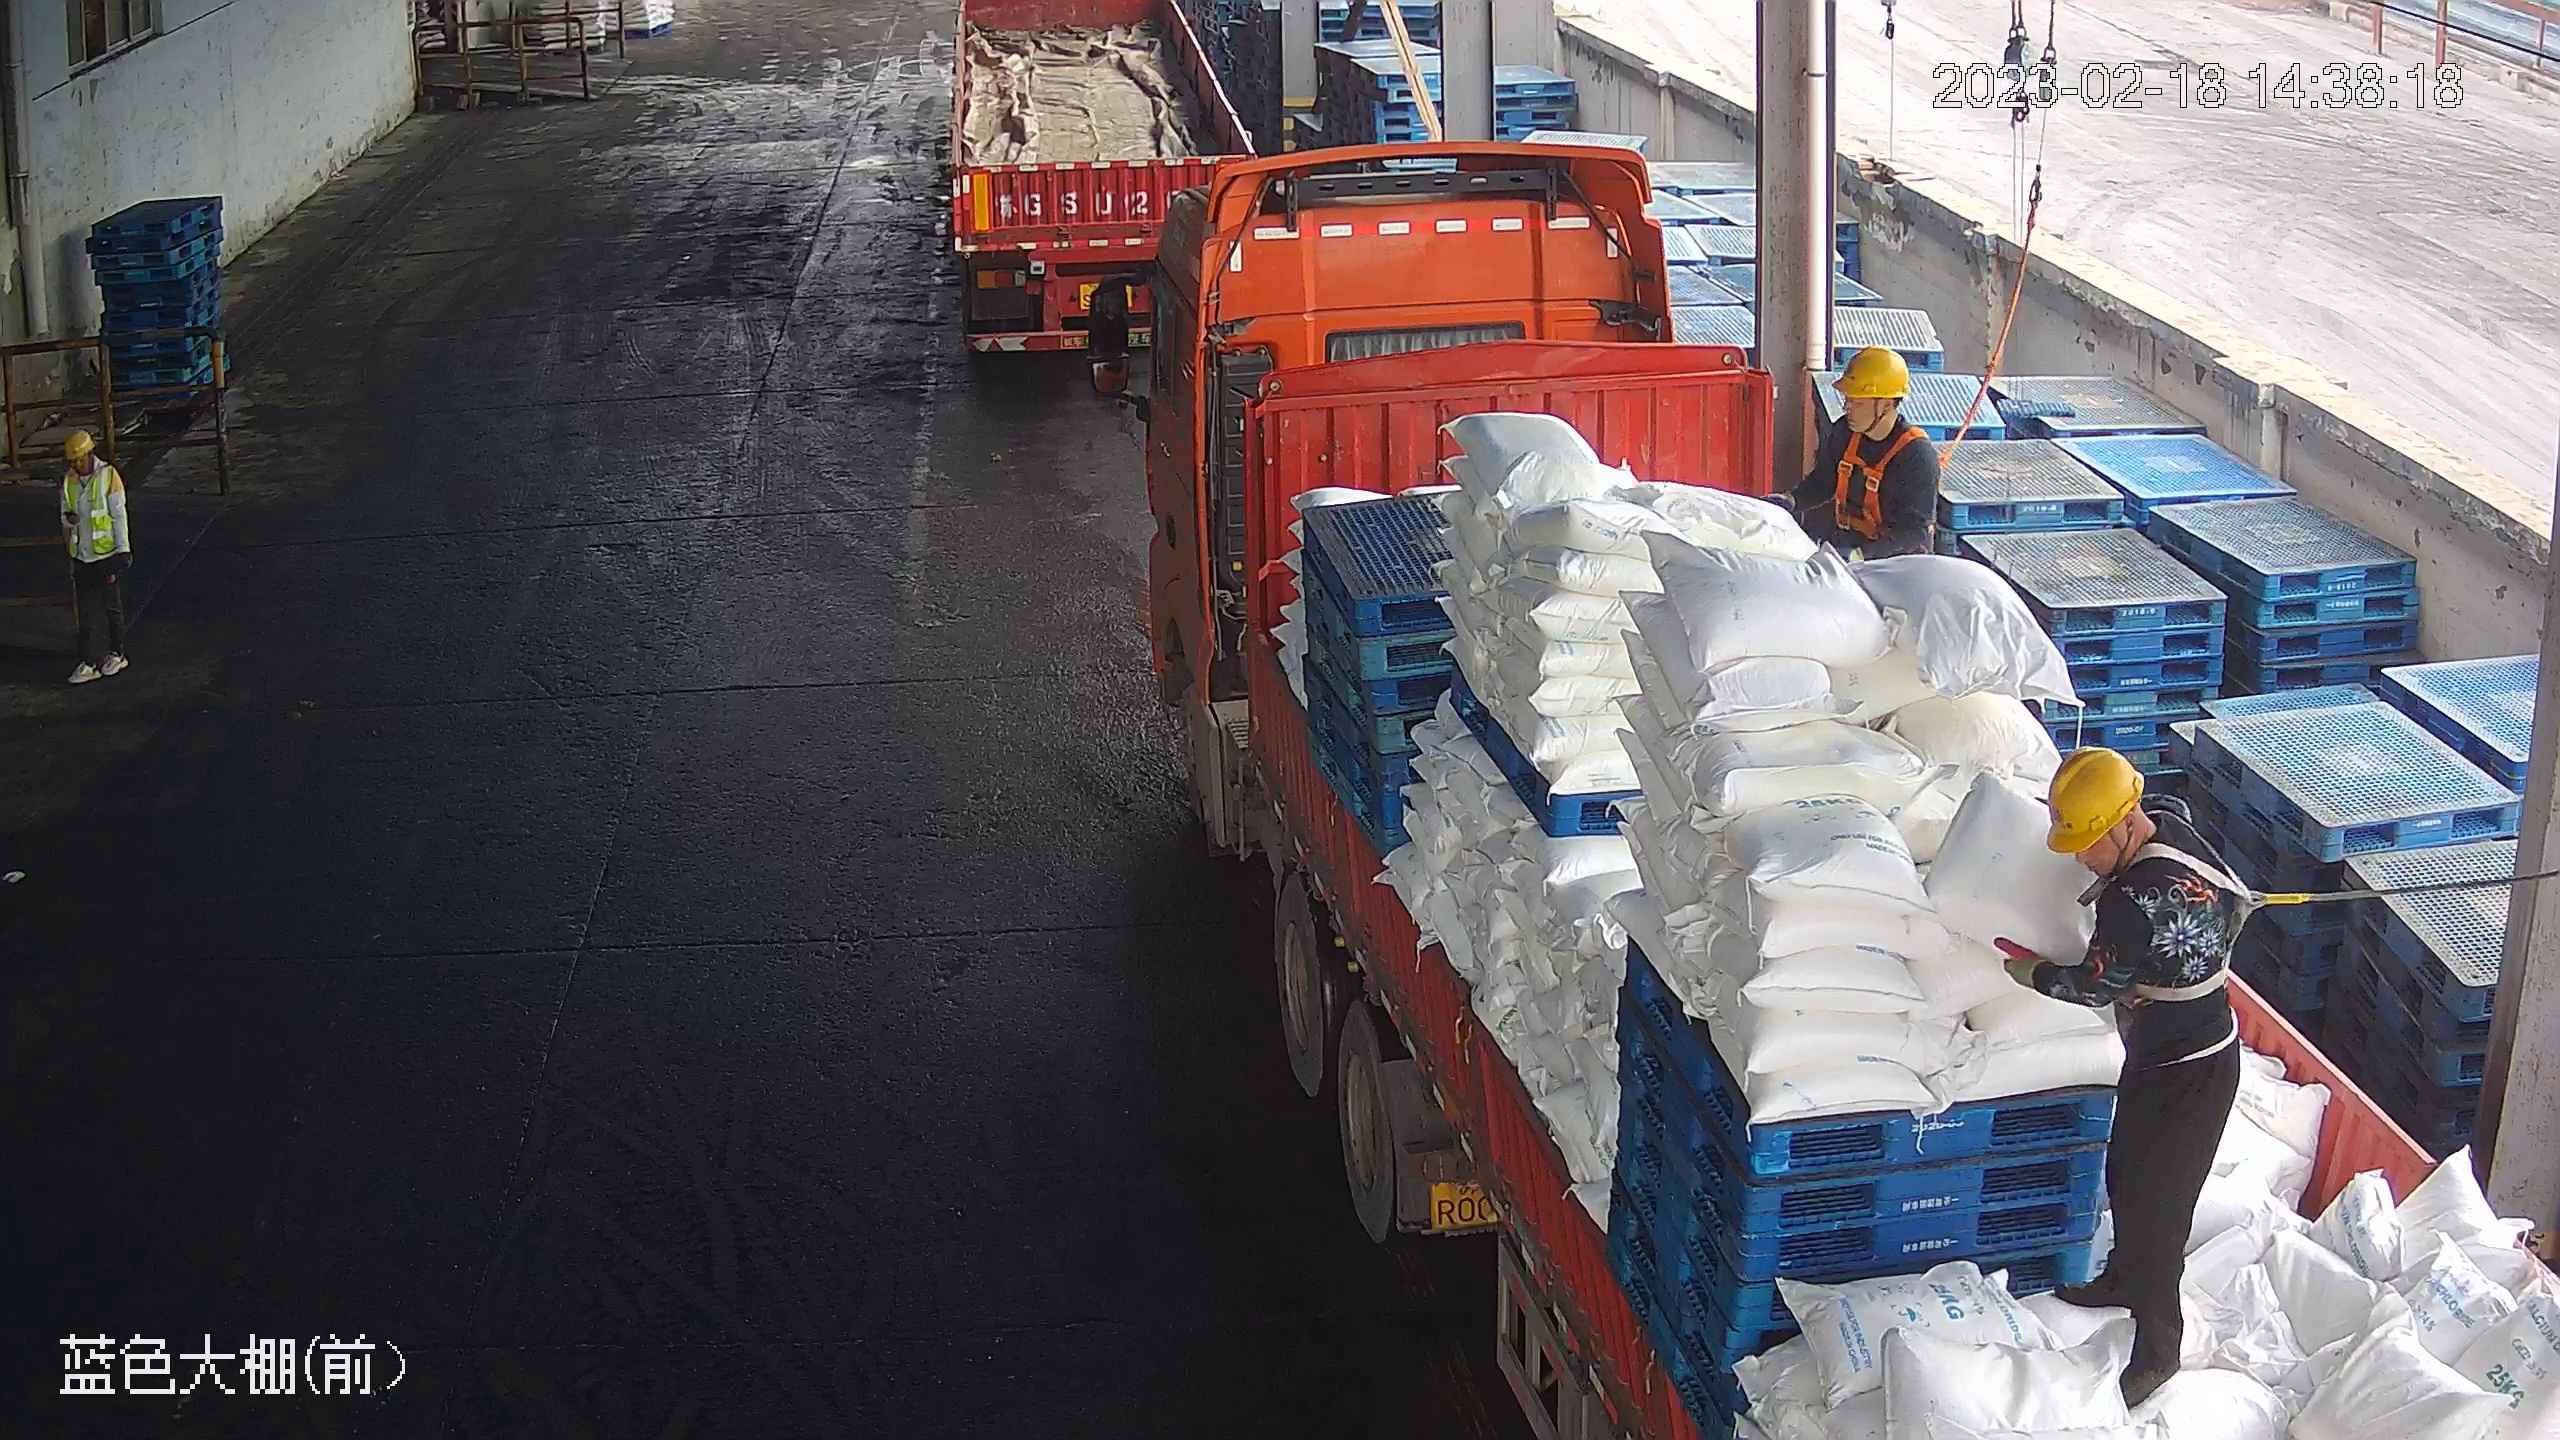belt: (2108, 844, 2271, 1000), (1827, 426, 1938, 543)
head: (2042, 745, 2231, 936), (1812, 341, 1942, 488), (58, 426, 124, 505)
helmet: (2045, 744, 2146, 856), (1832, 342, 1912, 398), (65, 426, 100, 459)
people: (1992, 747, 2245, 1411), (48, 421, 139, 694)
truck: (1123, 152, 2557, 1437), (937, 1, 1249, 369)
